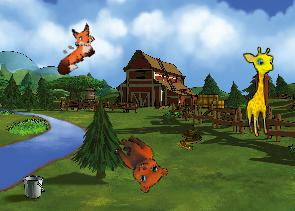bear: (103, 130, 173, 197)
fox: (43, 20, 105, 78)
giraffe: (242, 46, 279, 137)
